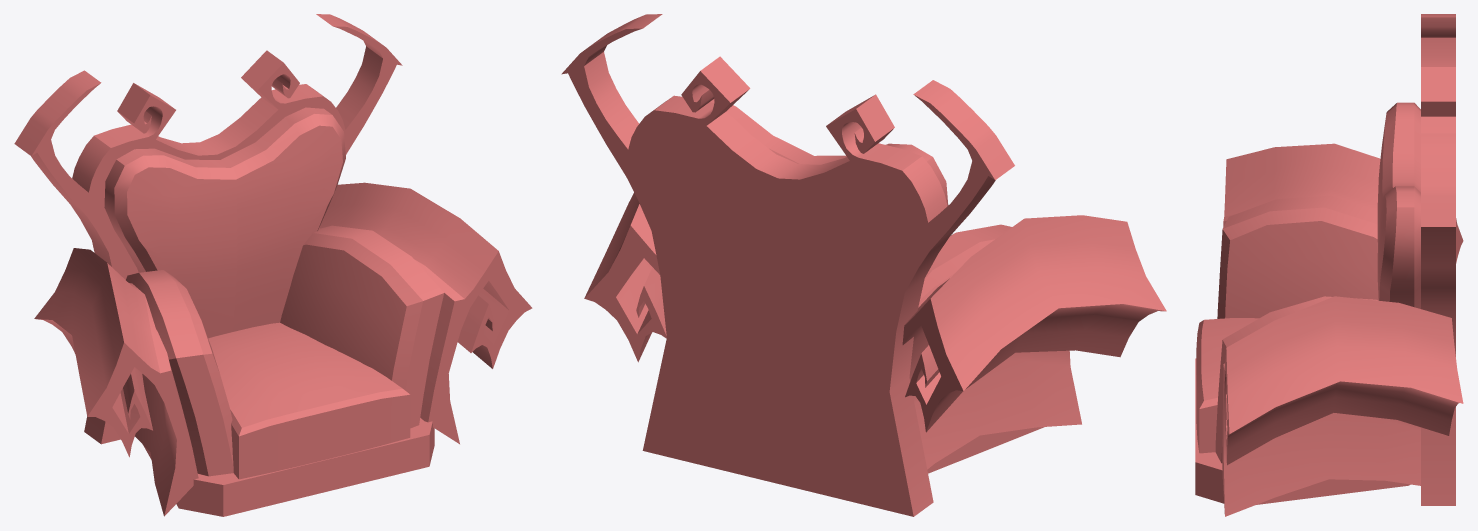
The model's file is Mesh_Trono_v001.fbx.
3 renders of one model, left to right at view 1: azimuth 30°, elevation 25°; view 2: azimuth 150°, elevation 25°; view 3: azimuth 270°, elevation 25°, orthographic. The views are drawn at different scales.
Visible parts, largest first — view 1: Mesh_Trono_v001; view 2: Mesh_Trono_v001; view 3: Mesh_Trono_v001.
Part boxes in pixels (bbox=[...]): Mesh_Trono_v001: bbox=[14, 14, 532, 516]; Mesh_Trono_v001: bbox=[561, 14, 1166, 516]; Mesh_Trono_v001: bbox=[1195, 14, 1463, 516].
Size of the model in its own units: 5.49 by 4.26 by 2.78.
